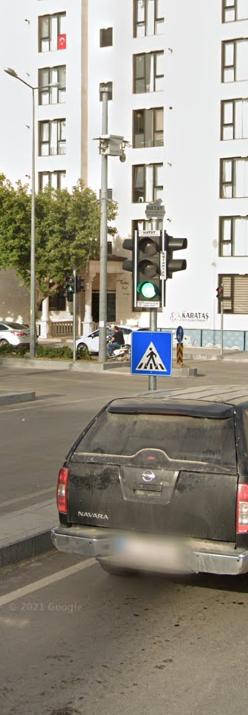greenlight: (136, 230, 163, 298)
